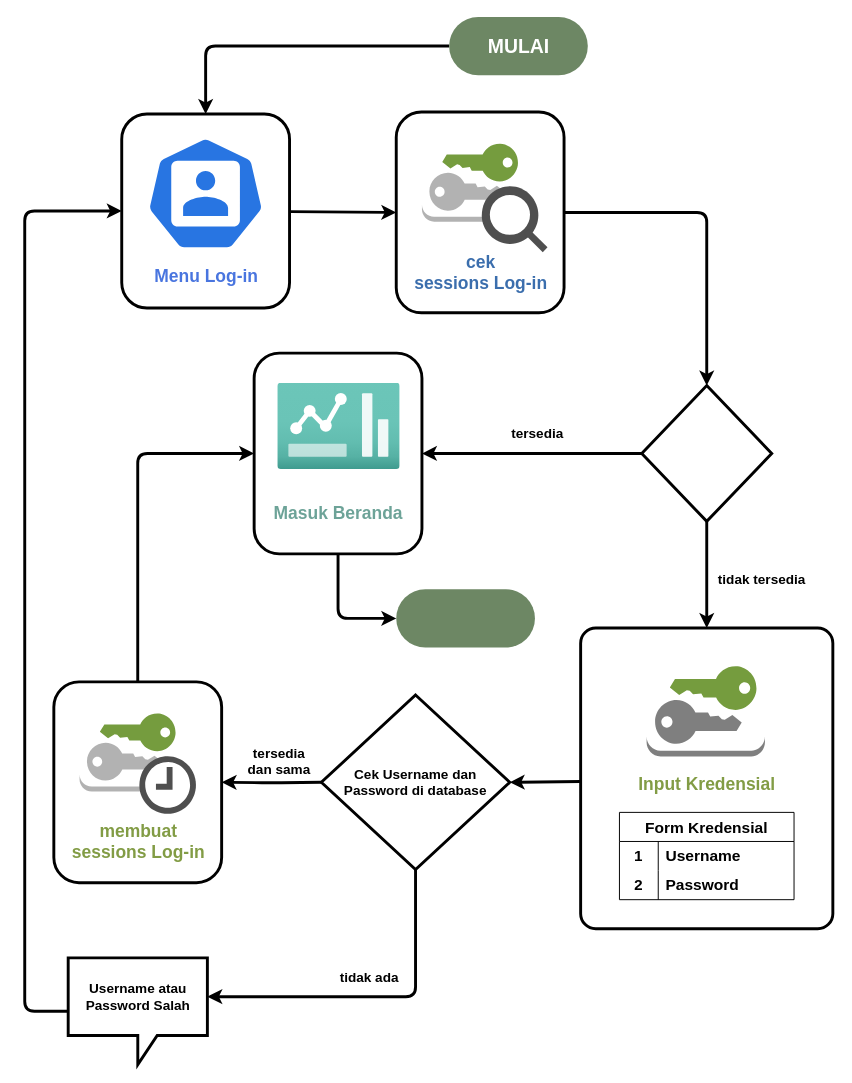
This 852x1083 diagram has some shape labels left out. The shapes that lost their labels are listed below. From the top down, each one's box as (x1, y1, x2, y2) in pixels, then its label:
(640, 384, 773, 522): Cek session Browser User
(396, 589, 534, 647): SELESAI
